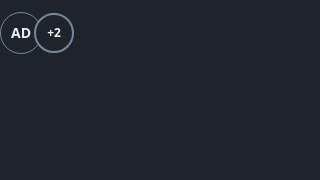
Test case: avatars and toggle controls › opens avatar overflow, dismisses it outside, and validates its display limit
The width and height of the screenshot is (320, 180).
Later steps or results of the test are not shown.
Click the button named "Show 2 more members": (54,33) x1=34 y1=13 x2=74 y2=53
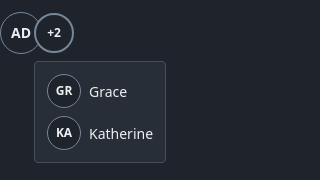
Result: the list named "Additional team members" is shown at x1=34 y1=61 x2=166 y2=163
Result: the text "Katherine" is shown at x1=89 y1=122 x2=153 y2=144
